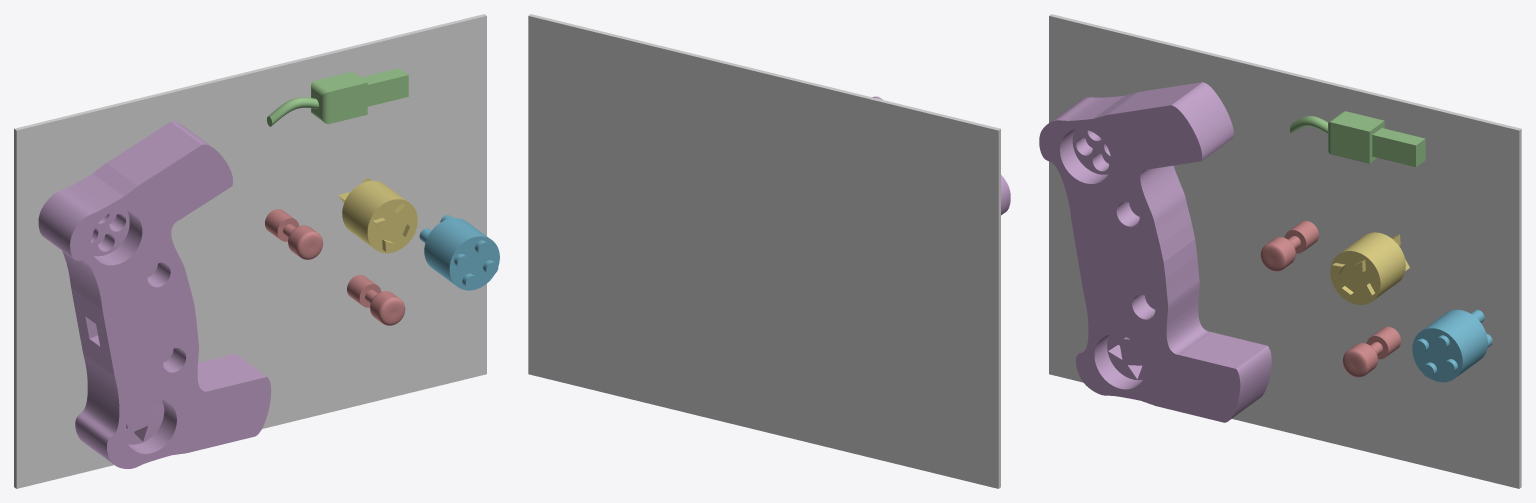
File: pickup_layout.glb
3 renders of one model, left to right at view 1: azimuth 30°, elevation 25°; view 2: azimuth 150°, elevation 25°; view 3: azimuth 330°, elevation 25°, orthographic.
Visible parts, largest first — view 1: world, 3.obj, 4.obj, 2.obj, 1.obj, 5.obj, 0.obj; view 2: world; view 3: world, 3.obj, 4.obj, 2.obj, 1.obj, 5.obj, 0.obj.
Part boxes in pixels (left/top/right/bottom): world: left=14, top=14, right=486, bottom=488; 3.obj: left=38, top=121, right=271, bottom=468; 4.obj: left=267, top=68, right=408, bottom=126; 2.obj: left=419, top=215, right=499, bottom=290; 1.obj: left=338, top=177, right=417, bottom=253; 5.obj: left=265, top=209, right=323, bottom=259; 0.obj: left=347, top=275, right=405, bottom=325; world: left=528, top=14, right=1000, bottom=488; world: left=1049, top=14, right=1521, bottom=488; 3.obj: left=1039, top=82, right=1271, bottom=422; 4.obj: left=1290, top=111, right=1425, bottom=166; 2.obj: left=1412, top=309, right=1492, bottom=382; 1.obj: left=1330, top=232, right=1409, bottom=304; 5.obj: left=1260, top=220, right=1318, bottom=271; 0.obj: left=1342, top=326, right=1400, bottom=377.
Bounding box in the file's own units: 21.49 × 15.65 × 3.2.
